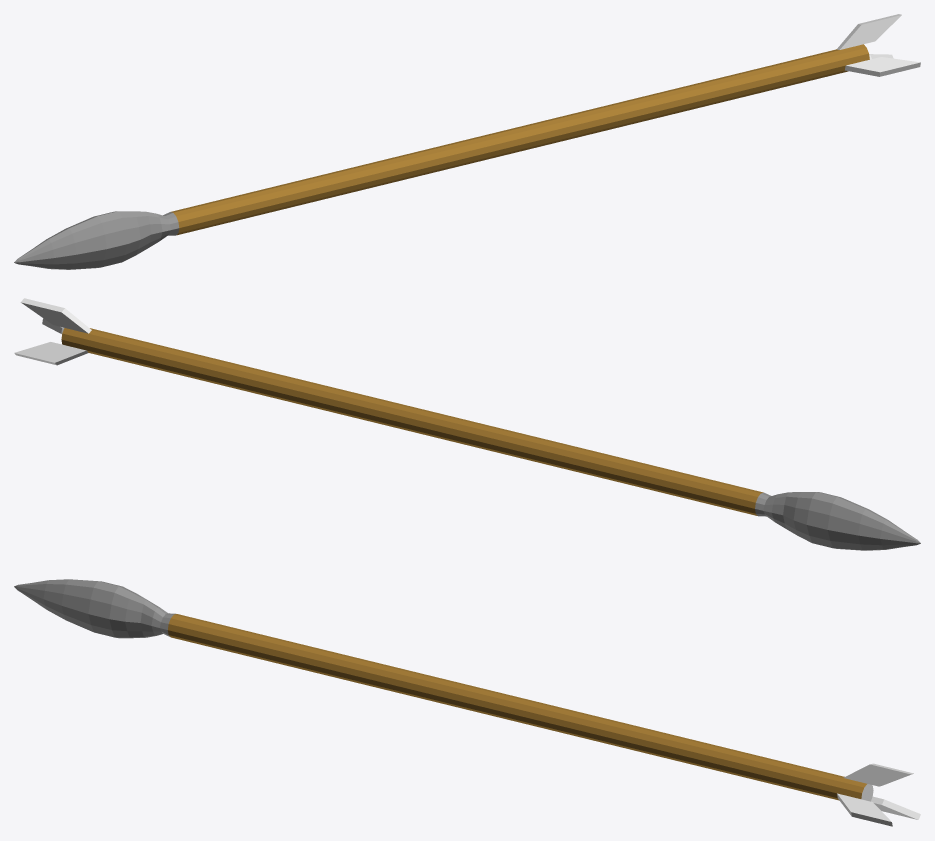
Rendered from Arrow.fbx.
3 renders of one model, top to bottom at view 1: azimuth 30°, elevation 25°; view 2: azimuth 150°, elevation 25°; view 3: azimuth 330°, elevation 25°, orthographic.
Parts seen in each view (by area): view 1: Arrow; view 2: Arrow; view 3: Arrow.
Part boxes in pixels (bbox=[...]): Arrow: bbox=[14, 14, 920, 269]; Arrow: bbox=[14, 298, 920, 550]; Arrow: bbox=[14, 579, 920, 826].
Bounding box in the file's own units: 1885 × 110 × 106.
